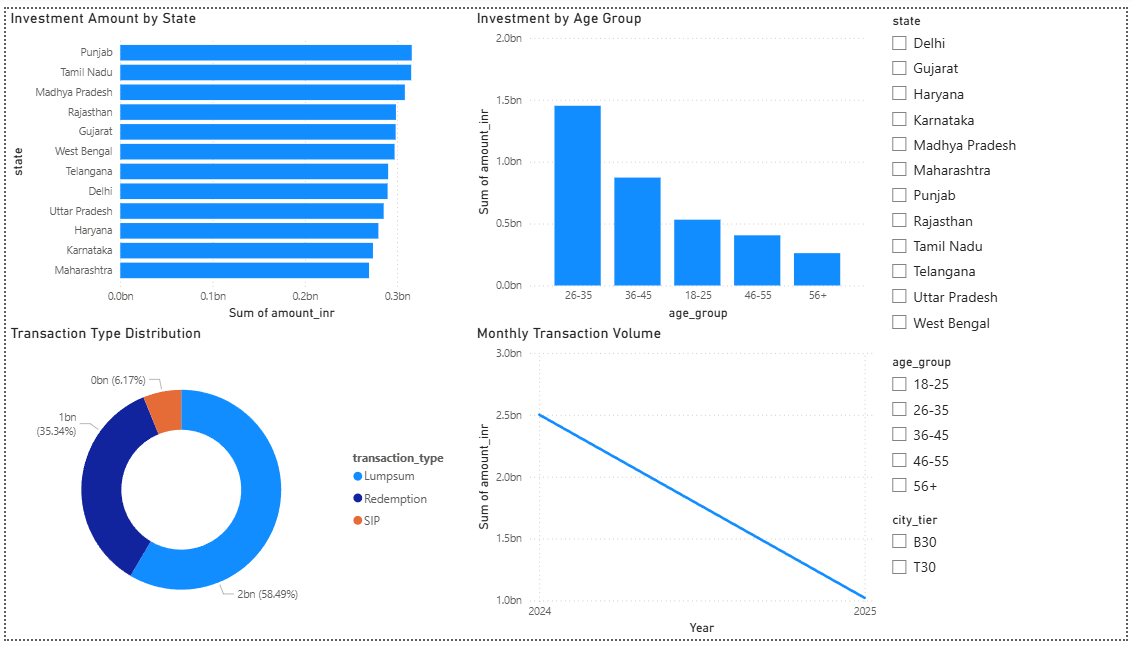

What the dashboard file says about the page in this screenshot:
{"tool":"powerbi","page":{"name":"Invester Analytics","canvas":[1280,720],"ordinal":2},"visuals":[{"type":"clusteredBarChart","title":"Investment Amount by State","fields":{"Category":["clean_transactions.state"],"Y":["Sum(clean_transactions.amount_inr)"]},"box":[0,0,520,360],"z":0},{"type":"donutChart","title":"Transaction Type Distribution","fields":{"Category":["clean_transactions.transaction_type"],"Y":["Sum(clean_transactions.amount_inr)"]},"box":[0,360,520,360],"z":1000},{"type":"clusteredColumnChart","title":"Investment by Age Group","fields":{"Category":["clean_transactions.age_group"],"Y":["Sum(clean_transactions.amount_inr)"]},"box":[533.3,0,455,360],"z":2000},{"type":"lineChart","title":"Monthly Transaction Volume","fields":{"Category":["clean_transactions.transaction_date.Variation.Date Hierarchy.Year","clean_transactions.transaction_date.Variation.Date Hierarchy.Quarter","clean_transactions.transaction_date.Variation.Date Hierarchy.Month","clean_transactions.transaction_date.Variation.Date Hierarchy.Day"],"Y":["Sum(clean_transactions.amount_inr)"]},"box":[533.3,360,466.7,360],"z":2001},{"type":"slicer","fields":{"Values":["clean_transactions.state"]},"box":[1000,0,280,390],"z":2002},{"type":"slicer","fields":{"Values":["clean_transactions.age_group"]},"box":[1000,390,280,180],"z":2003},{"type":"slicer","fields":{"Values":["clean_transactions.city_tier"]},"box":[1000,570,280,93.3],"z":2004}]}

Visuals, with their boxes in screenshot pixels (x1, y1, x2, y2), scaled from the page's 1280x720 canvas onto the 1132x646 screenshot:
"Investment Amount by State" clusteredBarChart: (0,0,460,323)
"Transaction Type Distribution" donutChart: (0,323,460,645)
"Investment by Age Group" clusteredColumnChart: (472,0,874,323)
"Monthly Transaction Volume" lineChart: (472,323,884,645)
slicer - clean_transactions.state: (884,0,1131,350)
slicer - clean_transactions.age_group: (884,350,1131,511)
slicer - clean_transactions.city_tier: (884,511,1131,595)
